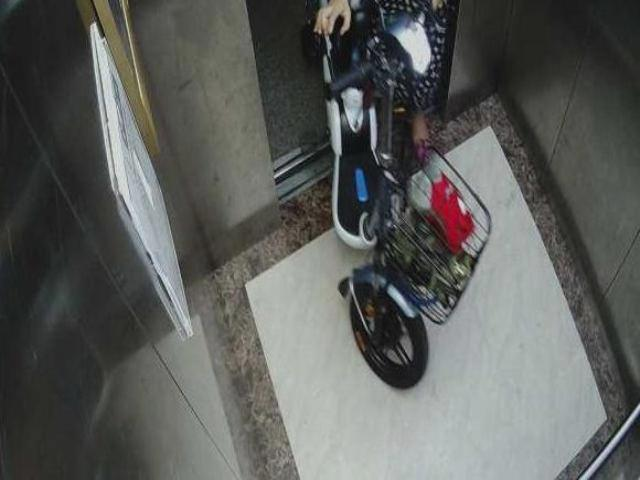emotor: (312, 11, 482, 415)
